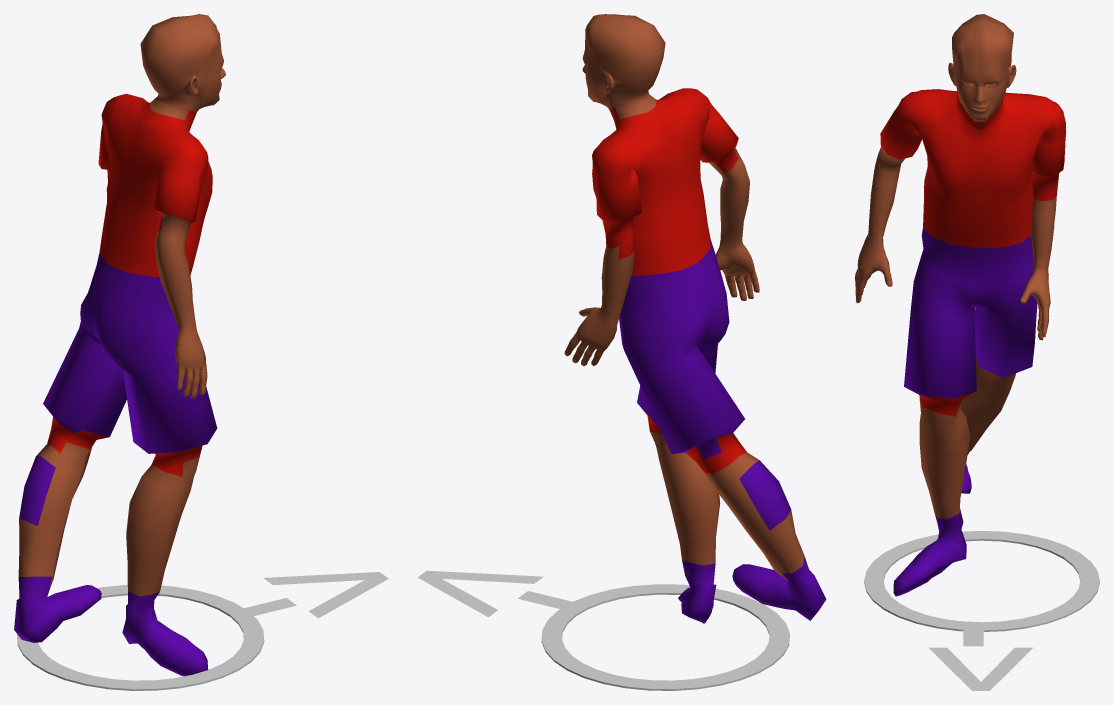
Rendered from player_000022.obj.
3 renders of one model, left to right at view 1: azimuth 30°, elevation 25°; view 2: azimuth 150°, elevation 25°; view 3: azimuth 270°, elevation 25°, orthographic. The views are drawn at different scales.
Visible parts, largest first — view 1: soccerplayer.002_mesh.003, Circle, Text.001_Mesh.001; view 2: soccerplayer.002_mesh.003, Circle, Text.001_Mesh.001; view 3: soccerplayer.002_mesh.003, Circle, Text.001_Mesh.001.
Part boxes in pixels (bbox=[...]): soccerplayer.002_mesh.003: bbox=[14, 14, 225, 676]; Circle: bbox=[17, 585, 264, 690]; Text.001_Mesh.001: bbox=[239, 572, 388, 618]; soccerplayer.002_mesh.003: bbox=[564, 14, 826, 623]; Circle: bbox=[541, 584, 789, 690]; Text.001_Mesh.001: bbox=[418, 570, 575, 617]; soccerplayer.002_mesh.003: bbox=[855, 14, 1066, 596]; Circle: bbox=[864, 530, 1099, 631]; Text.001_Mesh.001: bbox=[929, 624, 1032, 690].
Bounding box in the file's own units: 1.94 × 3 × 1.13.
